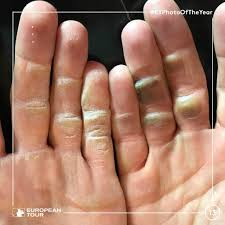hand: (5, 2, 116, 220), (120, 1, 218, 217)
